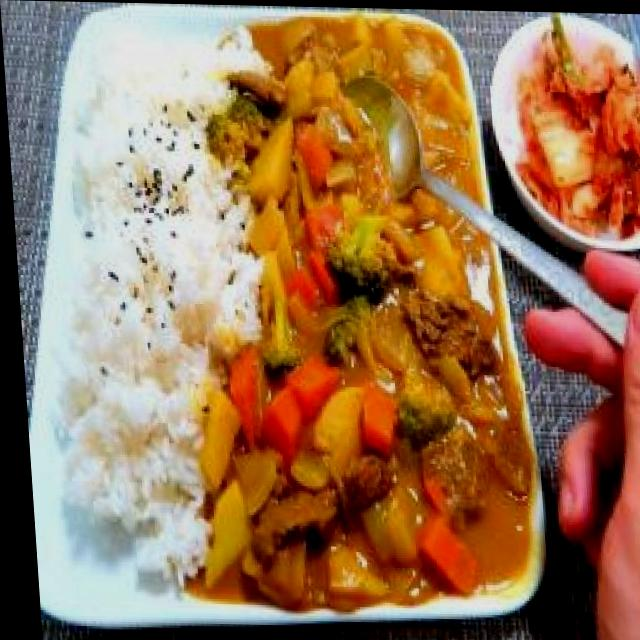curry: (237, 12, 518, 631)
rice: (40, 46, 261, 529)
